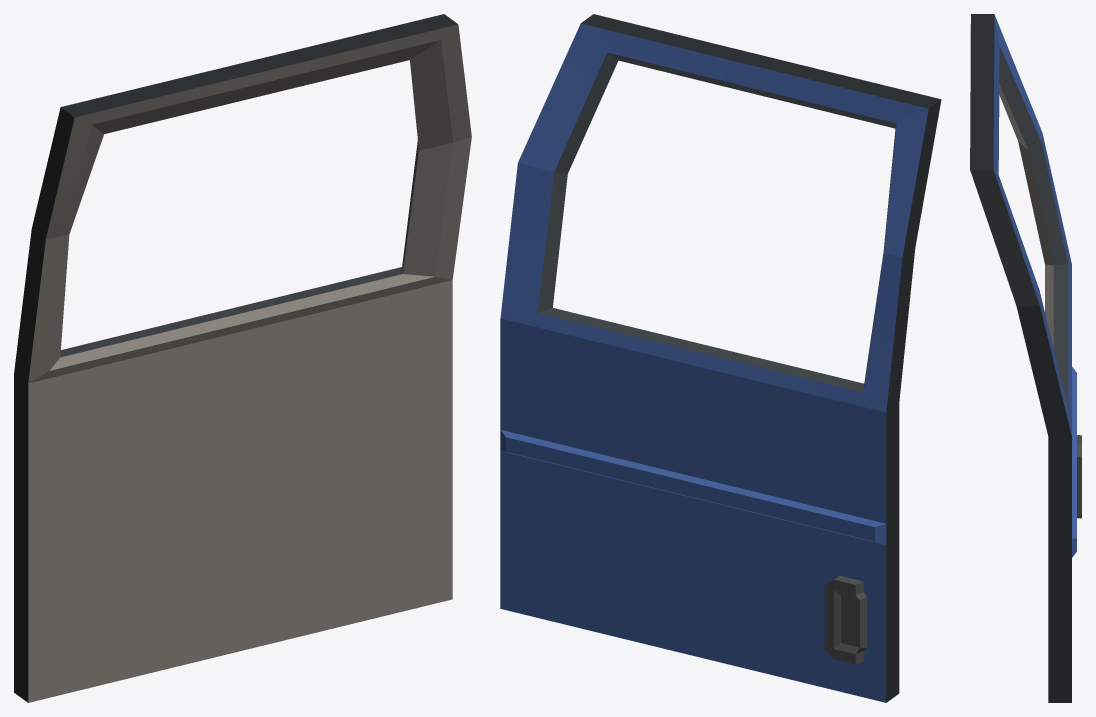
File: SM_Veh_Car_Van_Door_l.obj
3 renders of one model, left to right at view 1: azimuth 30°, elevation 25°; view 2: azimuth 150°, elevation 25°; view 3: azimuth 270°, elevation 25°, orthographic. The views are drawn at different scales.
Visible parts, largest first — view 1: SM_Veh_Car_Van_Door_l_0; view 2: SM_Veh_Car_Van_Door_l_0; view 3: SM_Veh_Car_Van_Door_l_0.
Part boxes in pixels (left/top/right/bottom): SM_Veh_Car_Van_Door_l_0: left=14, top=14, right=471, bottom=702; SM_Veh_Car_Van_Door_l_0: left=500, top=14, right=941, bottom=702; SM_Veh_Car_Van_Door_l_0: left=970, top=14, right=1081, bottom=702.
Size of the model in its own units: 0.8063 by 1.12 by 0.2209.
Materials: 1 (1 with a texture image).
